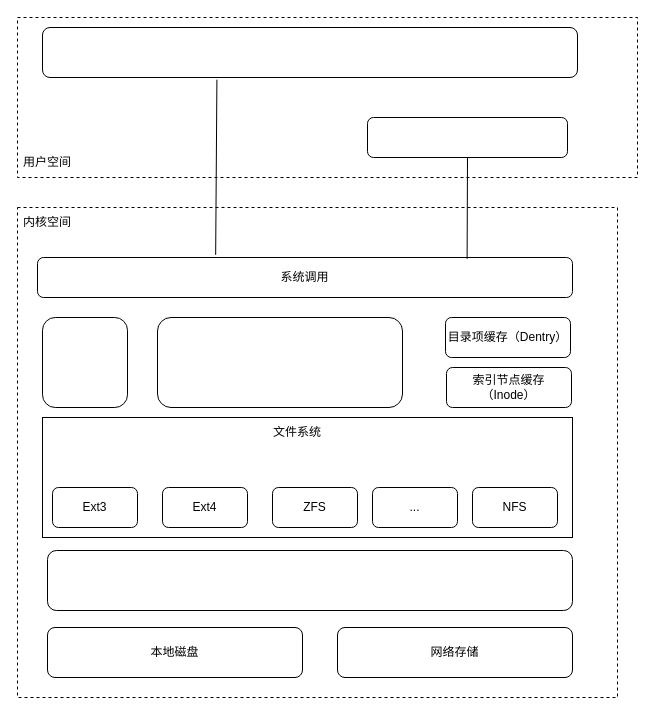
Some shapes in this 655 by 715 pixel diagram are drawn without their labels. The shapes that lost their labels are listed below. From the top down, each one's centre as x and y in pixels, then its label:
(310,52): 应用程序
(467,137): 库函数 （如：glibc）
(85,362): 页缓存（Cache）
(279,362): 虚拟文件系统VFS
(309,580): 缓冲区(Buffer)
